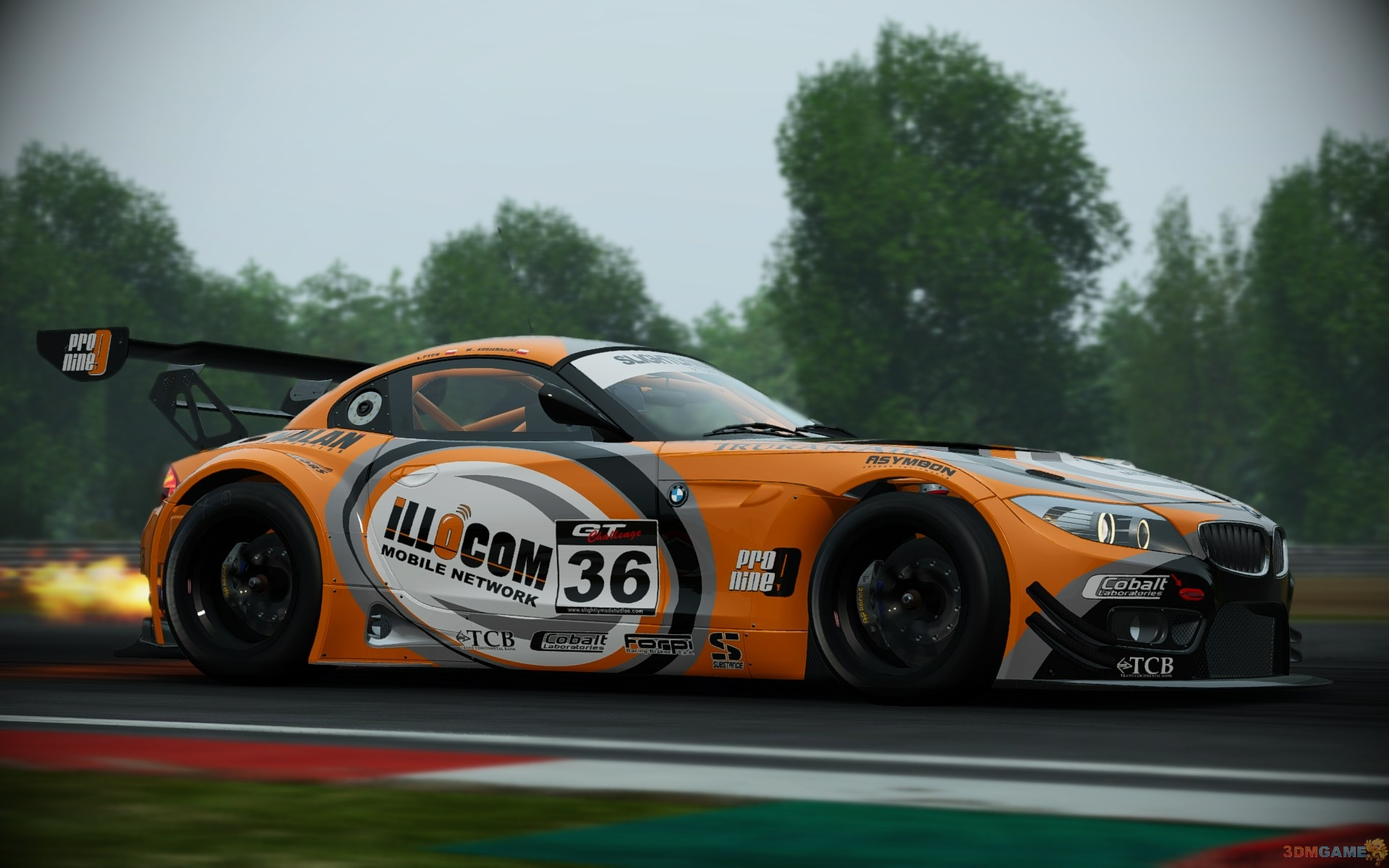su7: (120, 334, 1336, 706)
